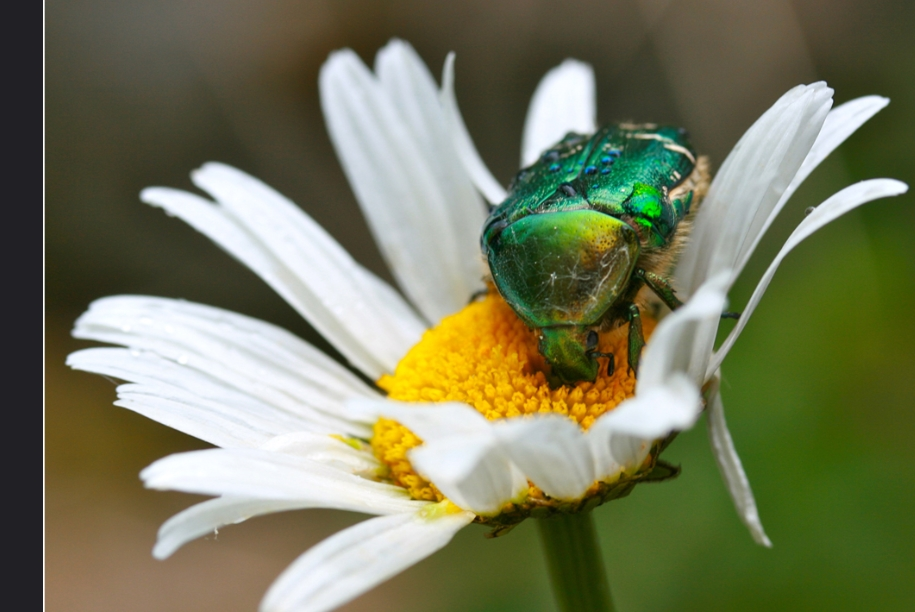Cetonia_aurata: (479, 118, 708, 401)
